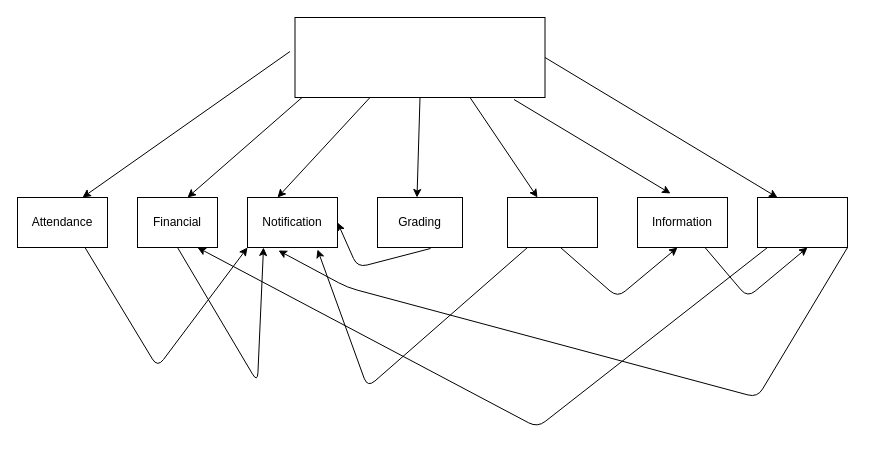
Image size: 873x453. Some labels were removed from this diagram. The centre of each missing label's shape, as x and y in pixels:
GUC SYSTEM: point 419,57
Reservations and Requests: point 802,222
Scheduling: point 552,222
